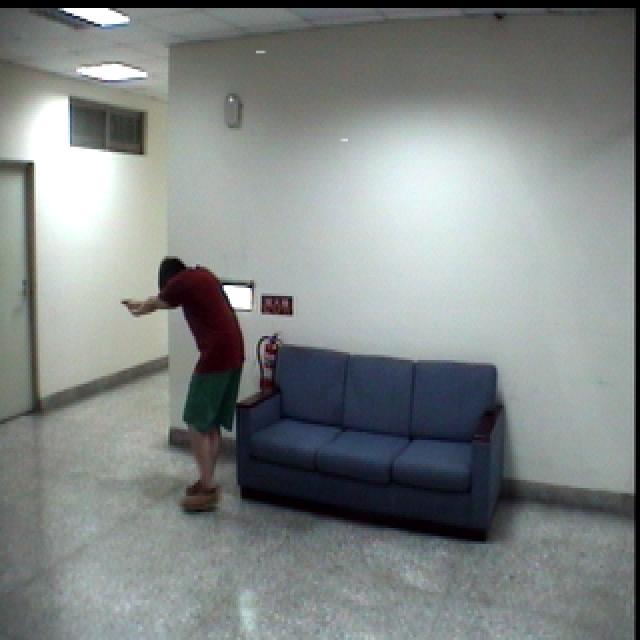bend: (142, 258, 251, 518)
